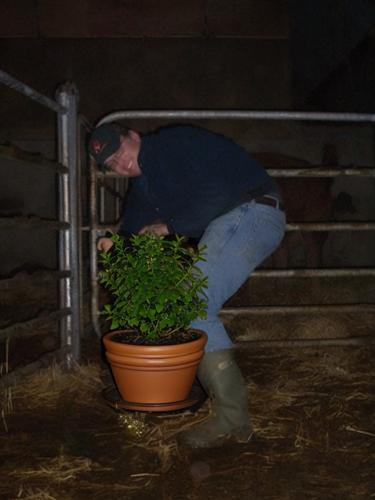person: (92, 122, 289, 452)
person/foot: (177, 419, 255, 446)
person/hand: (142, 224, 175, 240)
person/head: (90, 124, 142, 177)
pottedplant: (100, 231, 208, 413)
